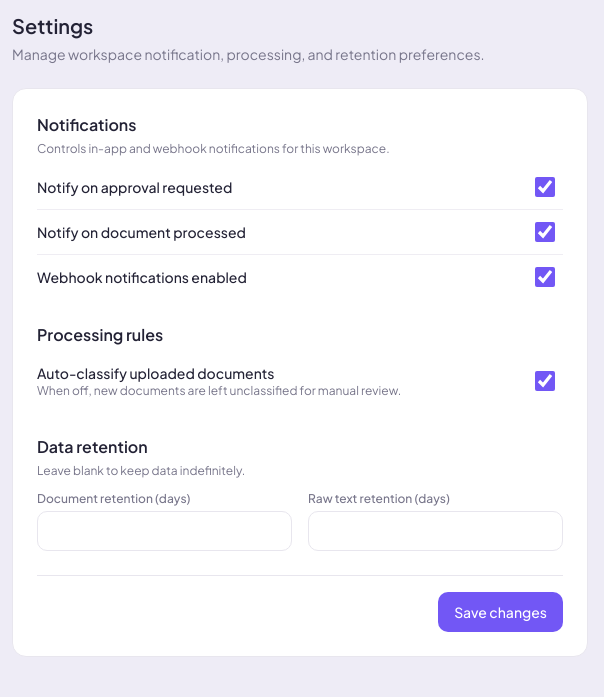
SettingsPage › setting a retention value below 1 shows a validation error and blocks saving
Expected: the heading "Data retention" is shown, [37,436,148,457]
Type "0" into the number field labelled "Document retention (days)" at (164, 531), box [37,511,292,551]
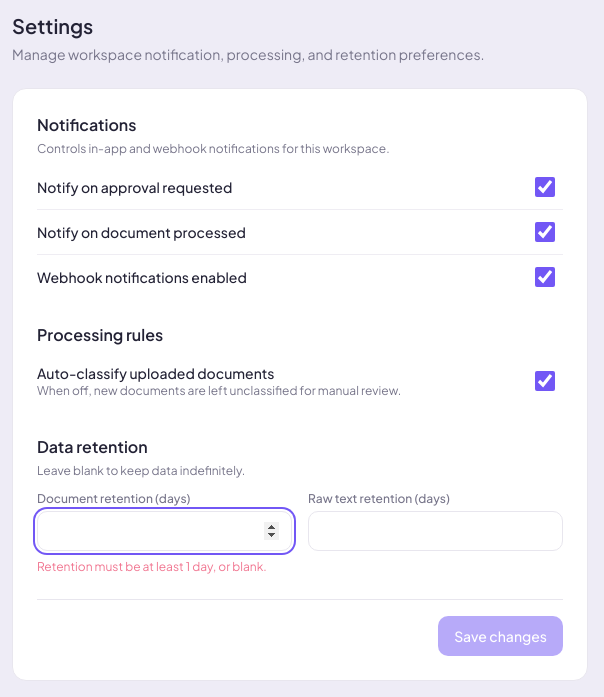
Expected: the text "Retention must be at least 1 day, or blank." is shown, [37,559,267,574]
Expected: the button "Save changes" is disabled, [438,616,563,656]
